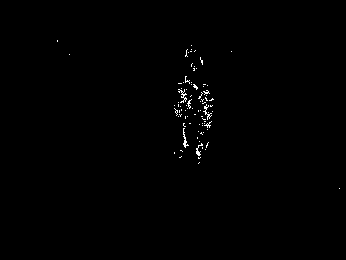person: (172, 72, 197, 154), (193, 83, 215, 163)
